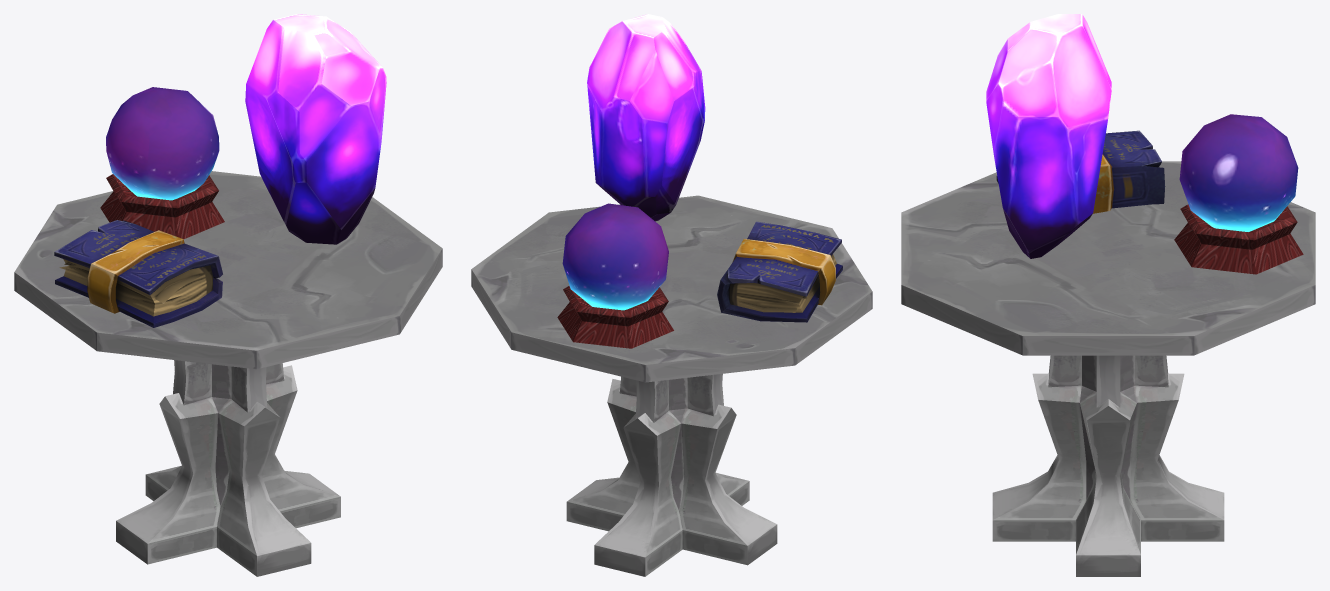
The model's file is maya2sketchfab.fbx.
3 renders of one model, left to right at view 1: azimuth 30°, elevation 25°; view 2: azimuth 150°, elevation 25°; view 3: azimuth 270°, elevation 25°, orthographic. The views are drawn at different scales.
Visible parts, largest first — view 1: SmartCombine_0; view 2: SmartCombine_0; view 3: SmartCombine_0.
Boxes of the visible parts, x1=… form: SmartCombine_0: x1=14, y1=14, x2=442, y2=576; SmartCombine_0: x1=471, y1=14, x2=872, y2=576; SmartCombine_0: x1=901, y1=14, x2=1315, y2=576.
Size of the model in its own units: 170 by 241 by 170.
Materials: 2 (2 with a texture image).
